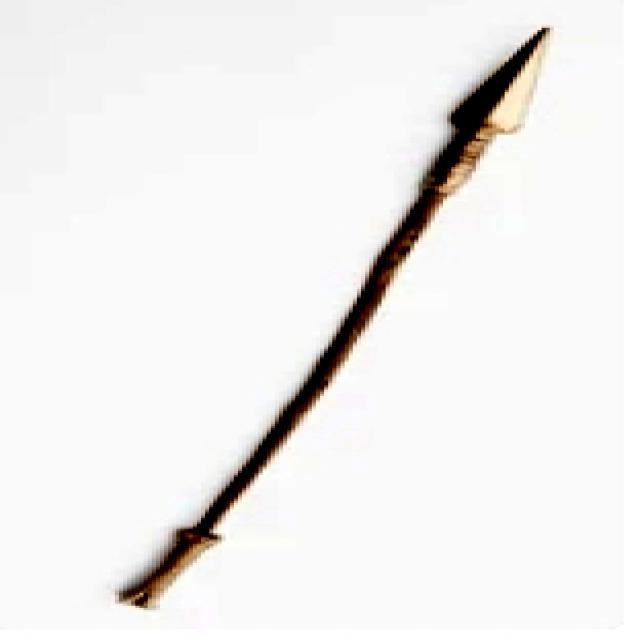spear: (90, 20, 595, 616)
